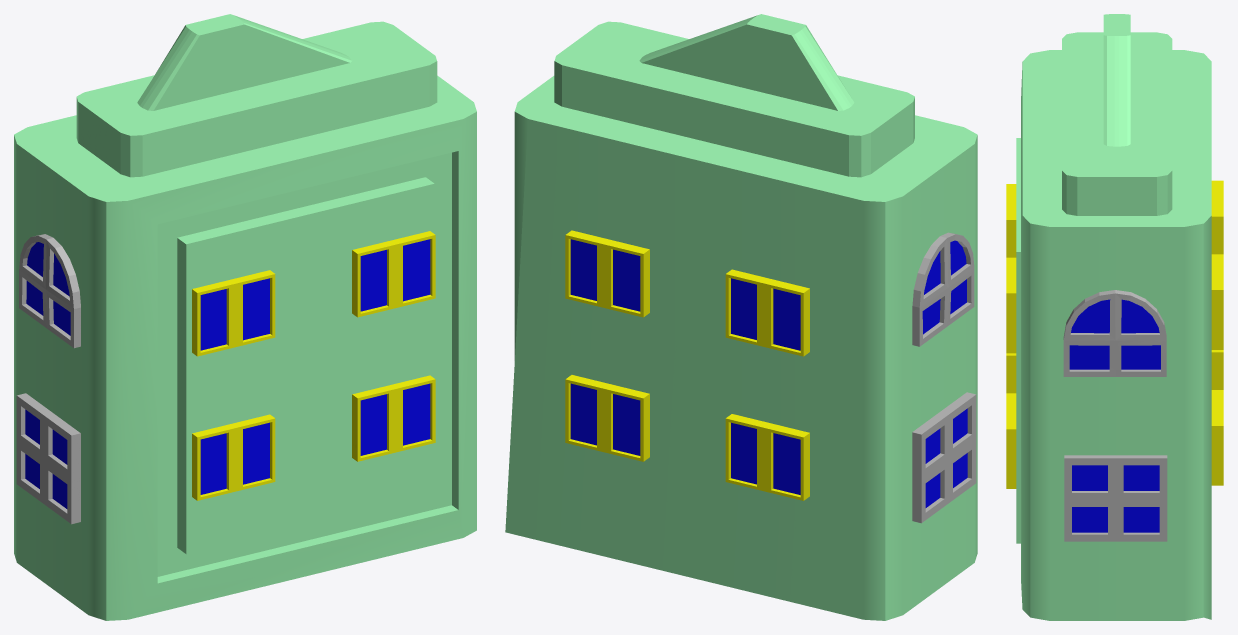
3 views of the same model, side by side, from view 1: azimuth 30°, elevation 25°; view 2: azimuth 150°, elevation 25°; view 3: azimuth 270°, elevation 25° (orthographic). The views are drawn at different scales.
Parts seen in each view (by area): view 1: pCube78, pCube139, pCube102, pCube103, pCube101, pCube6, pCube138; view 2: pCube78, pCube139, pCube104, pCube105, pCube106, pCube107, pCube138; view 3: pCube78, pCube100, pCube99, pCube104, pCube105, pCube101, pCube102, pCube106, pCube6, pCube107, pCube103.
Part boxes in pixels (box(x1,y1,x2,y2)): pCube78: box(14, 14, 476, 620); pCube139: box(16, 393, 80, 524); pCube102: box(352, 375, 435, 461); pCube103: box(192, 414, 275, 500); pCube101: box(352, 231, 435, 317); pCube6: box(192, 270, 275, 356); pCube138: box(19, 234, 80, 348); pCube78: box(505, 14, 977, 620); pCube139: box(912, 392, 976, 523); pCube104: box(565, 230, 649, 317); pCube105: box(565, 375, 649, 461); pCube106: box(725, 269, 809, 356); pCube107: box(725, 414, 809, 500); pCube138: box(912, 232, 974, 346); pCube78: box(1016, 14, 1211, 620); pCube100: box(1064, 455, 1167, 541); pCube99: box(1063, 290, 1166, 376); pCube104: box(1211, 254, 1223, 349); pCube105: box(1211, 390, 1223, 485); pCube101: box(1006, 257, 1016, 353); pCube102: box(1006, 393, 1016, 488); pCube106: box(1211, 180, 1223, 254); pCube6: box(1006, 184, 1016, 257); pCube107: box(1211, 350, 1223, 389); pCube103: box(1006, 353, 1016, 393).
Bounding box in the file's own units: 38.01 × 47.24 × 18.86.
